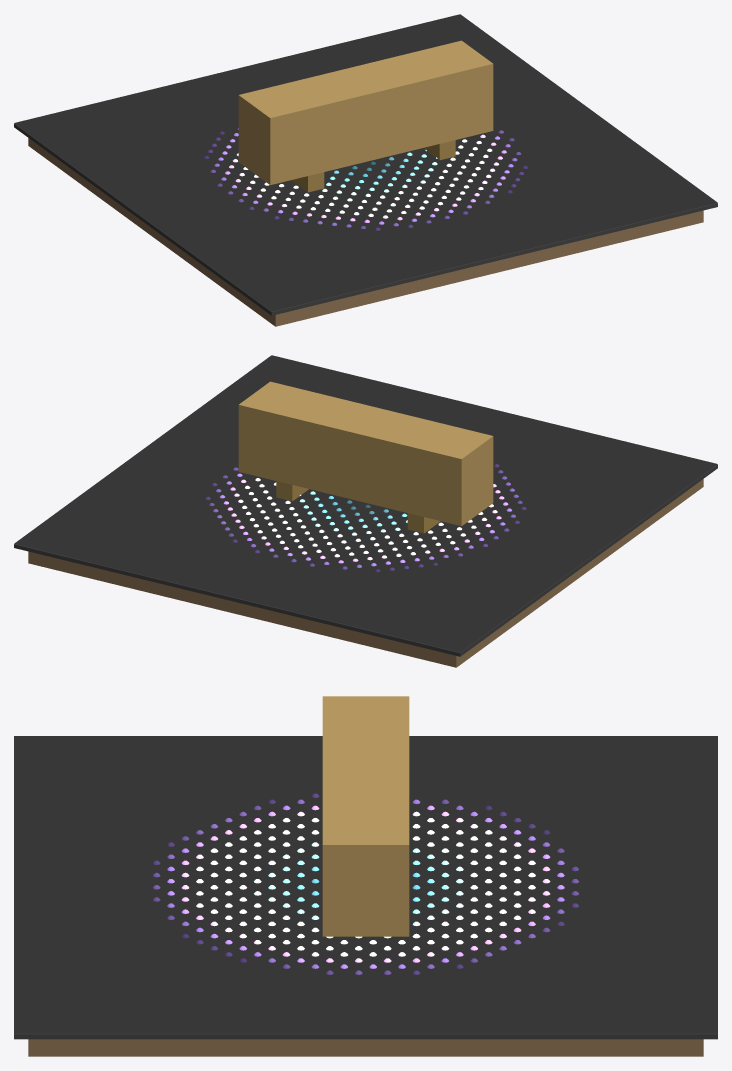
File: here-installation.glb
The picture shows the model from 3 angles, top to bottom: view 1: azimuth 30°, elevation 25°; view 2: azimuth 150°, elevation 25°; view 3: azimuth 270°, elevation 25°; orthographic projection. The views are drawn at different scales.
Size of the model in its own units: 2.44 by 0.547 by 2.44.
